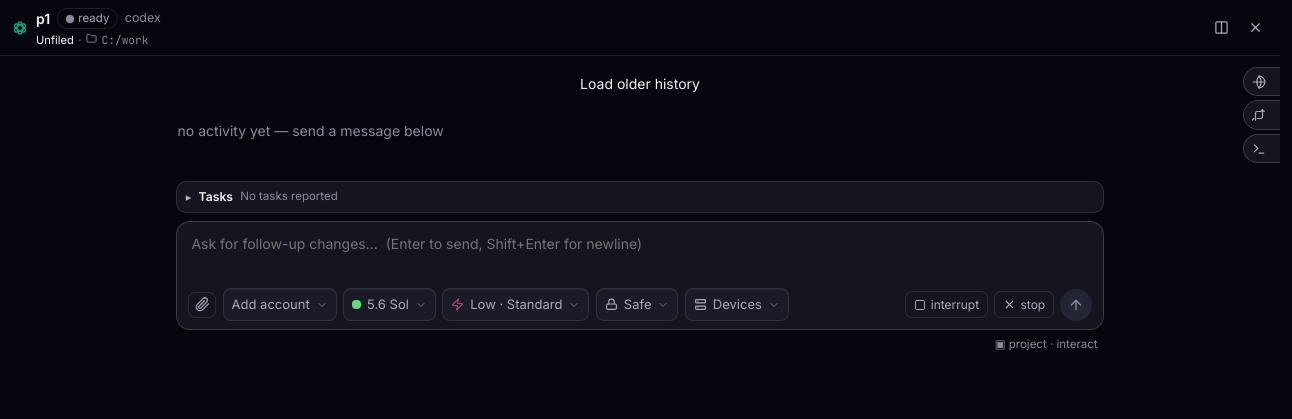
Test: transcript interaction boundaries › keeps Browser, GitHub and Runs in one rail for a cwd-only checkout
Step 1. Click the button named "Open GitHub and working diff" → (1262, 115), box x1=1243 y1=100 x2=1280 y2=130
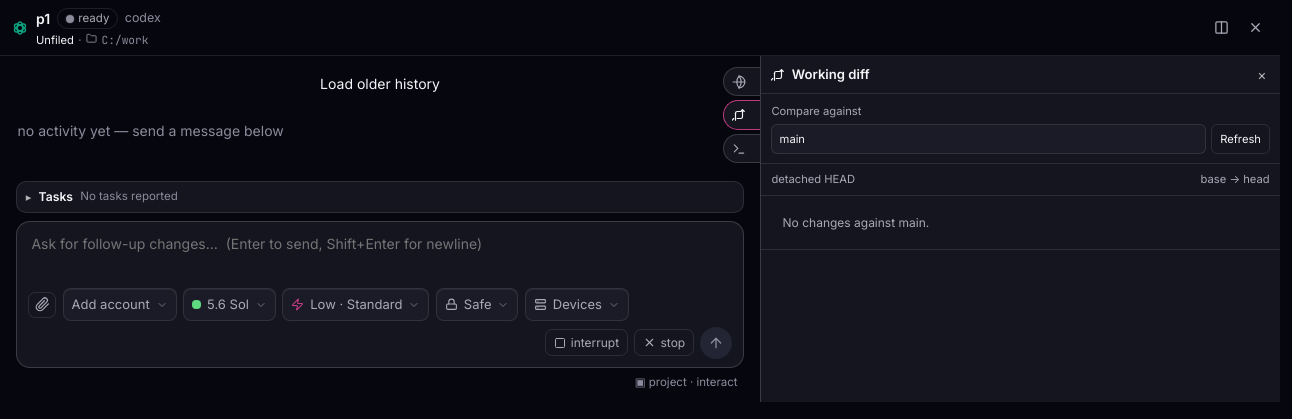
Check: the element "Working diff" is shown, box x1=760 y1=56 x2=1280 y2=402
Step 2. Click the button named "Open project runs" → (742, 149), box x1=723 y1=134 x2=760 y2=163
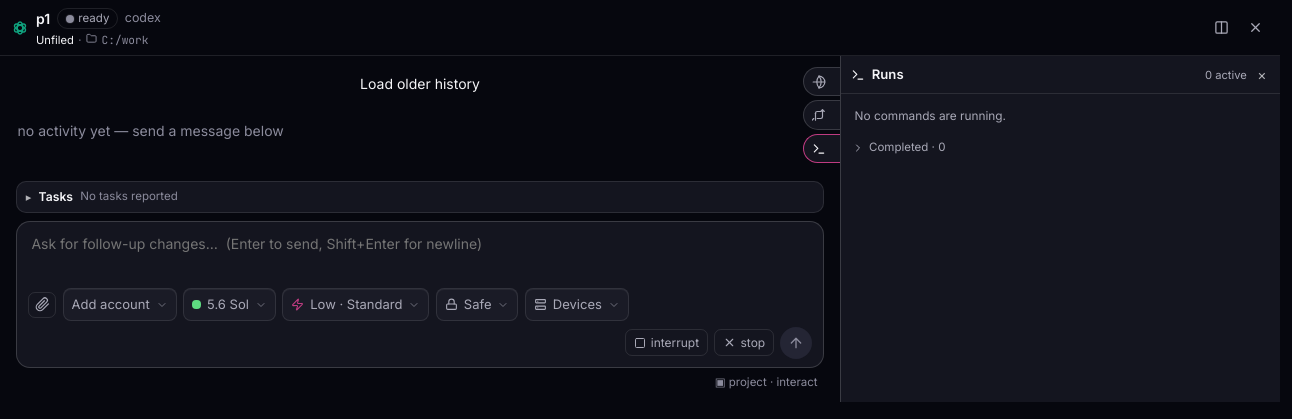
Check: the element named "Project runs" is shown, box x1=840 y1=56 x2=1280 y2=402
Check: the element "Working diff" is gone
